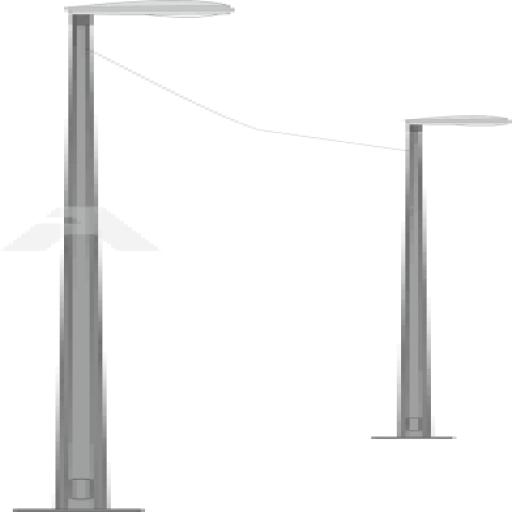Light-pole: (50, 2, 240, 503), (349, 93, 477, 438)
